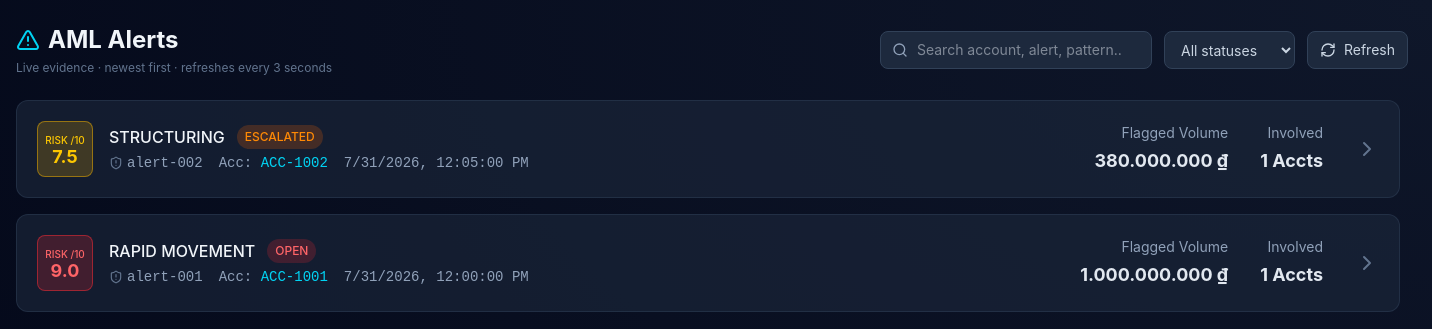
Test case: AmlAlertsDashboard Component › filters alerts when search input is typed
Expected: the text "alert-001" is shown, [109, 267, 203, 287]
Type "alert-002" into the search field named "Search AML alerts".
click(1016, 50); type("alert-002")  # box [880, 31, 1152, 69]
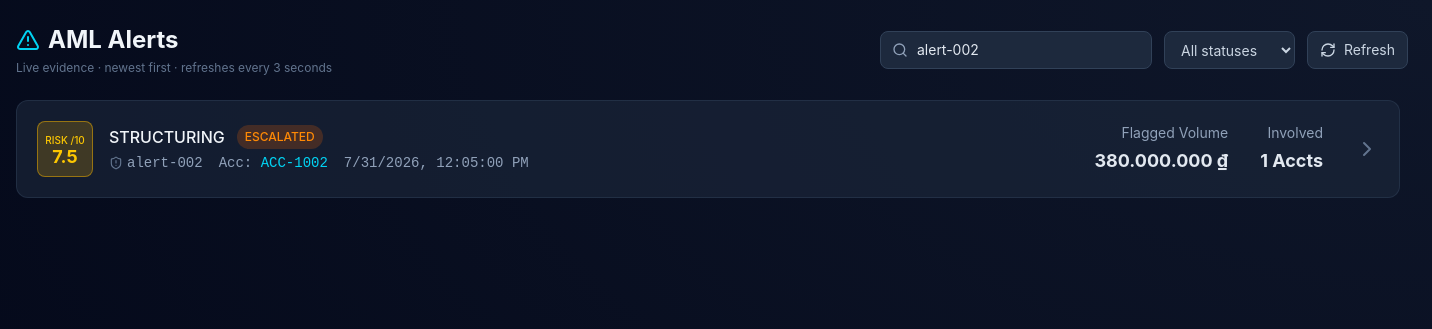
Expected: the text "alert-002" is shown, [109, 153, 203, 173]
Now the text "alert-001" is gone
